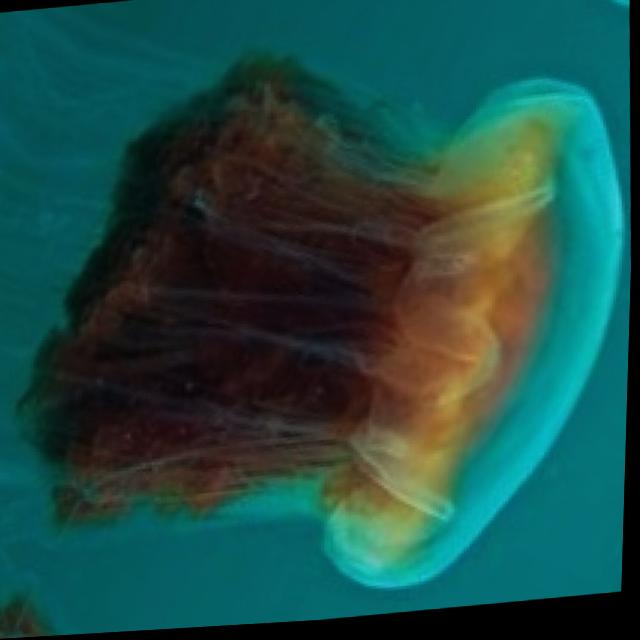Moon-jellyfish: (3, 25, 639, 627)
